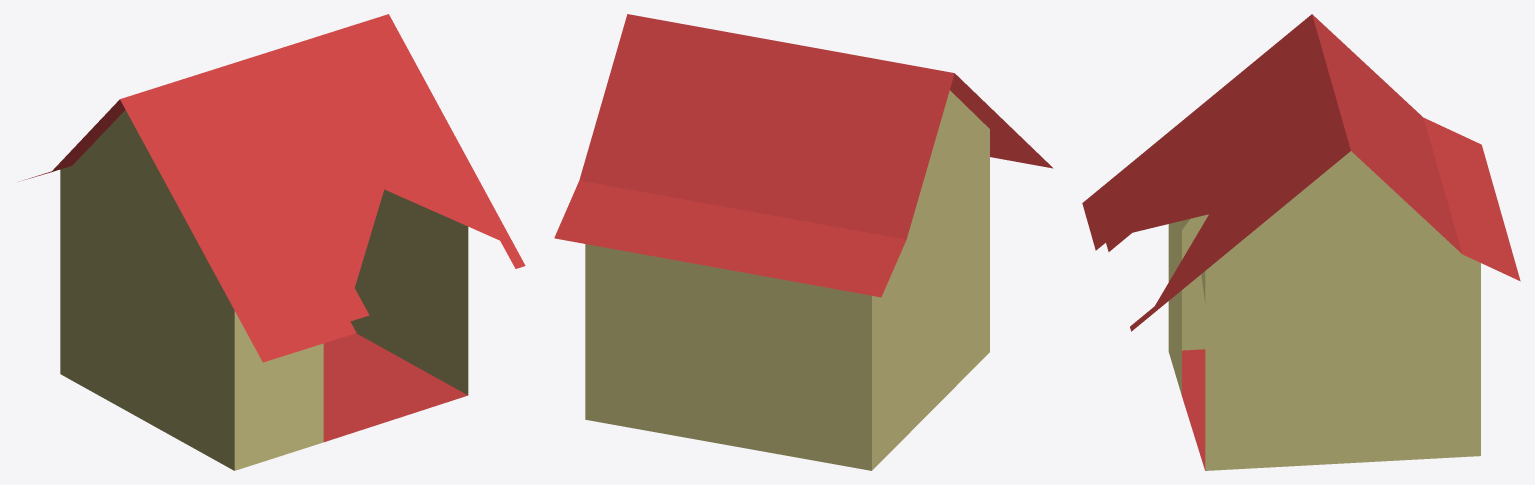
3 views of the same model, side by side, from view 1: azimuth 30°, elevation 25°; view 2: azimuth 150°, elevation 25°; view 3: azimuth 270°, elevation 25° (orthographic). The views are drawn at different scales.
Bounding box in the file's own units: 12.26 × 14.5 × 11.6.
